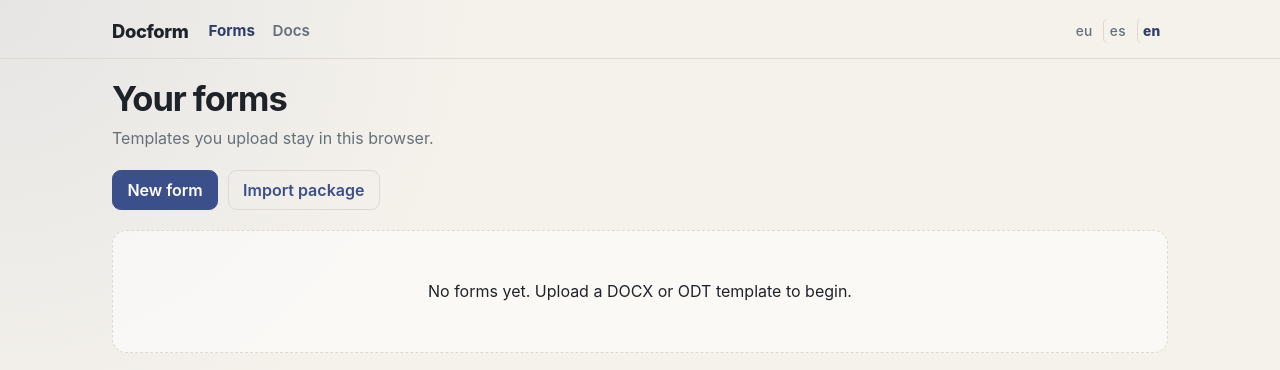
Test: App shell › keeps the in-memory choice when storage cannot be written
The image size is (1280, 370).
What coordinates should you click on to do the following:
click the button with aria-label "es — Español"
I would click on:
 (1118, 31)
Its box is [1102,18,1133,44].
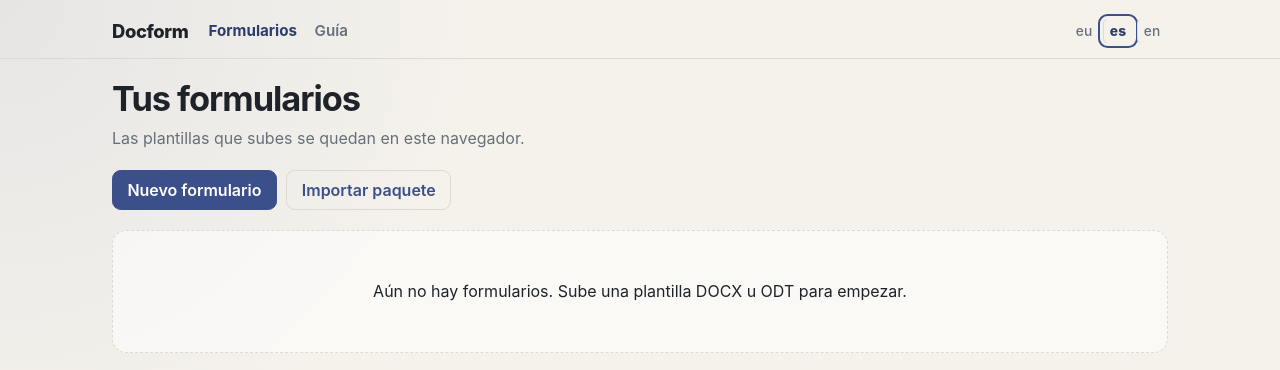
Expected: the heading "Tus formularios" is shown, [112,78,360,119]
